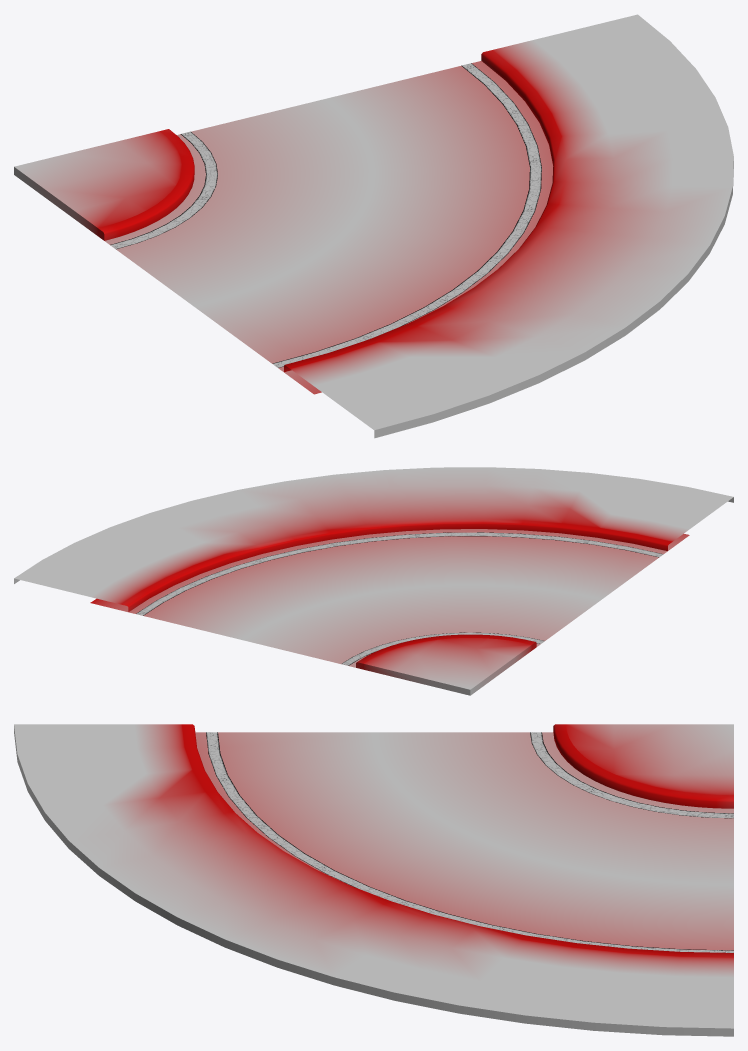
The model's file is Street_Curve_2Lane.gltf.
3 renders of one model, top to bottom at view 1: azimuth 30°, elevation 25°; view 2: azimuth 150°, elevation 25°; view 3: azimuth 270°, elevation 25°, orthographic. The views are drawn at different scales.
Visible parts, largest first — view 1: Street_Curve_2Lane; view 2: Street_Curve_2Lane; view 3: Street_Curve_2Lane.
Part boxes in pixels (box(x1,y1,x2,y2)): Street_Curve_2Lane: box(14, 14, 733, 438); Street_Curve_2Lane: box(14, 467, 733, 695); Street_Curve_2Lane: box(14, 724, 733, 1036).
Size of what is drawn, in the model's own units: 12 by 0.15 by 12.
